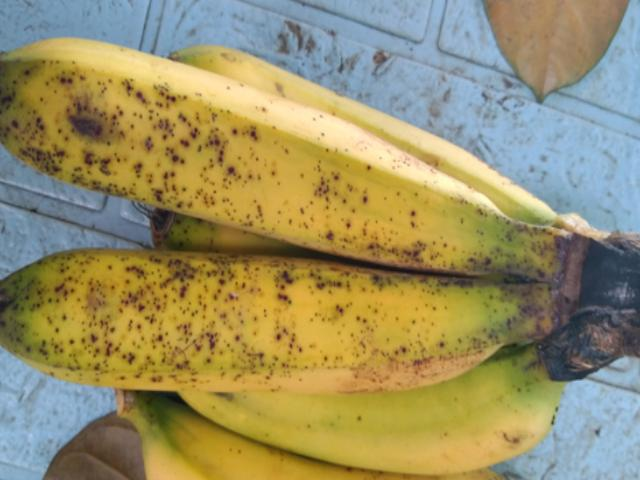ripe: (8, 29, 529, 268), (15, 232, 563, 415)
